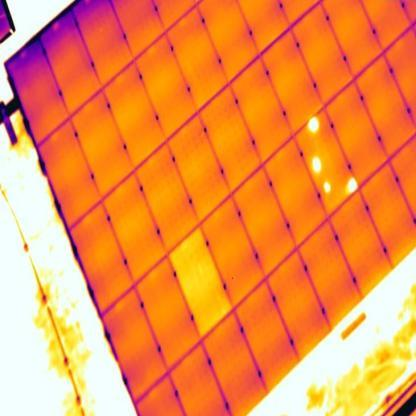anomaly: (305, 113, 321, 136), (311, 154, 323, 176), (346, 176, 358, 196), (322, 179, 331, 195)
